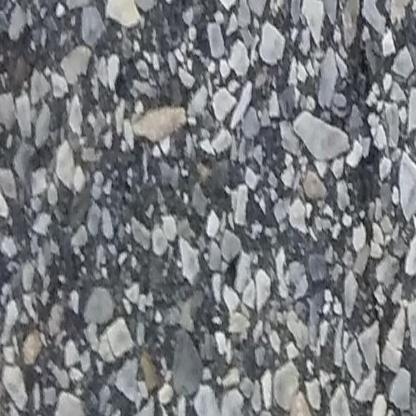Cracks: (339, 0, 406, 416)
